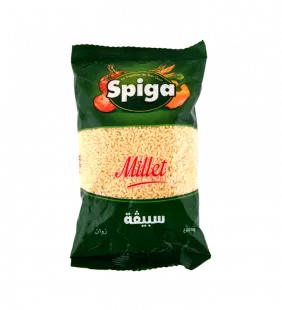SPIGA: (60, 30, 220, 276)
